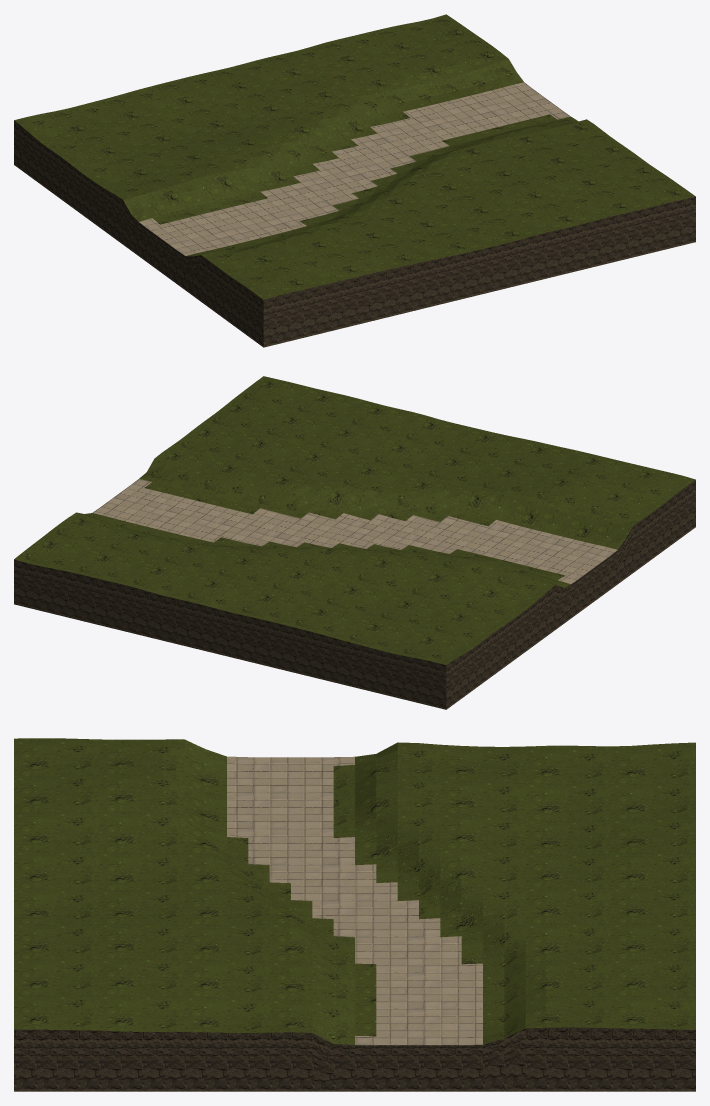
Rendered from road_plain_01.glb.
The picture shows the model from 3 angles, top to bottom: view 1: azimuth 30°, elevation 25°; view 2: azimuth 150°, elevation 25°; view 3: azimuth 270°, elevation 25°; orthographic projection. The views are drawn at different scales.
Parts seen in each view (by area): view 1: road_plain_01; view 2: road_plain_01; view 3: road_plain_01.
Part boxes in pixels (x1=…): road_plain_01: x1=14, y1=14, x2=695, y2=347; road_plain_01: x1=14, y1=376, x2=695, y2=709; road_plain_01: x1=14, y1=738, x2=695, y2=1091.
Size of the model in its own units: 16 by 1.79 by 16.
Materials: 3 (3 with a texture image).
